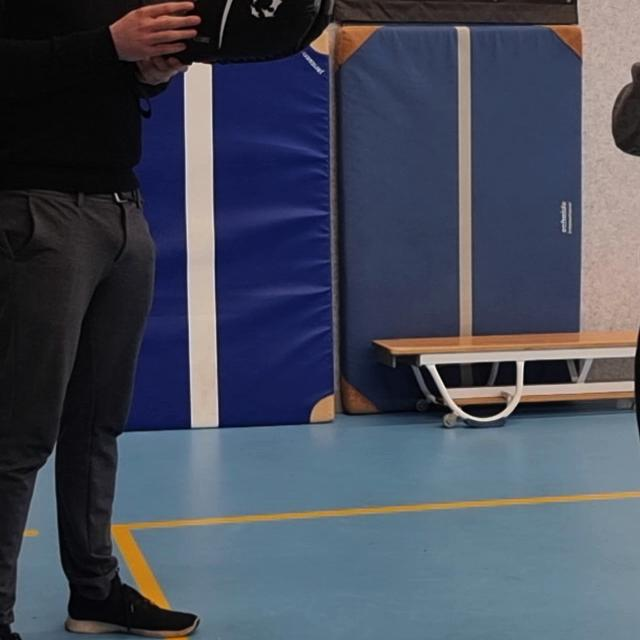paddle: (144, 0, 336, 64)
